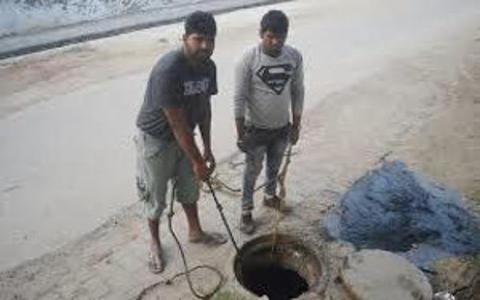open manhole: (222, 220, 331, 299)
